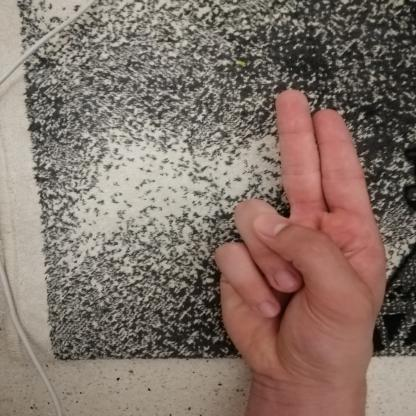TA: (196, 75, 401, 397)
